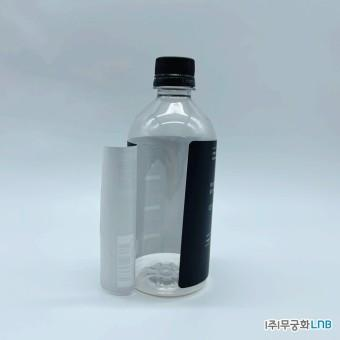plastic_bottle: (120, 52, 219, 301)
